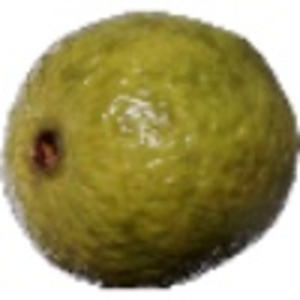goiaba: (3, 11, 296, 288)
